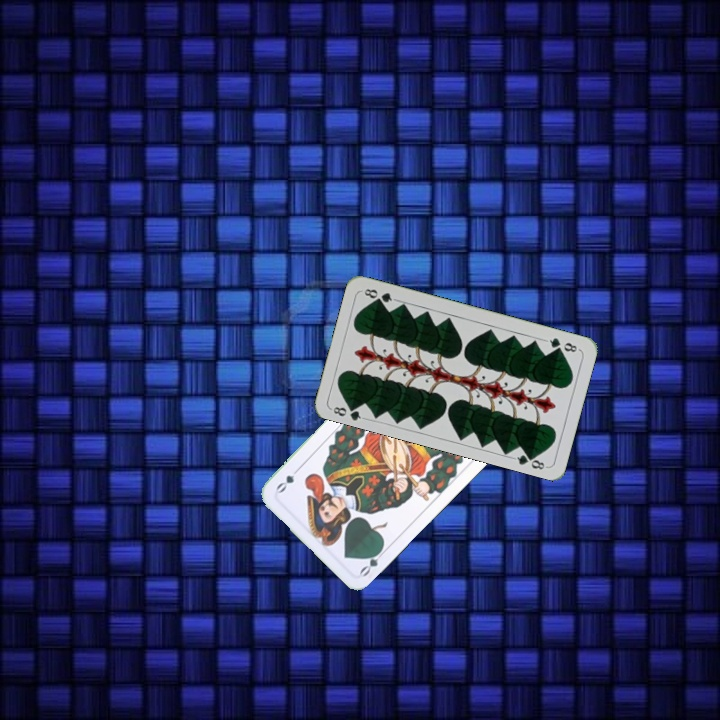G8: (327, 400, 367, 423), (542, 334, 582, 355)
GO: (356, 543, 389, 579)
